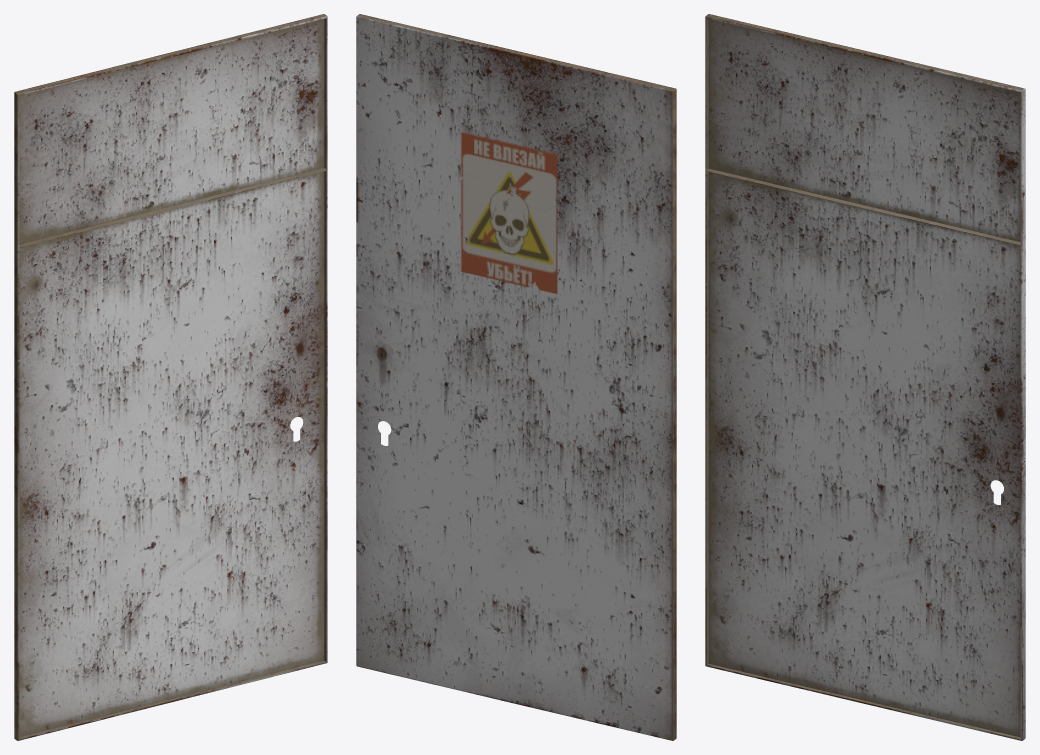
The model's file is elect door 2.fbx.
3 renders of one model, left to right at view 1: azimuth 30°, elevation 25°; view 2: azimuth 150°, elevation 25°; view 3: azimuth 330°, elevation 25°, orthographic.
Visible parts, largest first — view 1: Куб.002; view 2: Куб.002; view 3: Куб.002.
Boxes of the visible parts, x1,y1,x2,y2 form: Куб.002: (14,14,327,740); Куб.002: (356,14,676,740); Куб.002: (705,14,1025,740).
Bounding box in the file's own units: 75.96 × 150 × 2.6.
